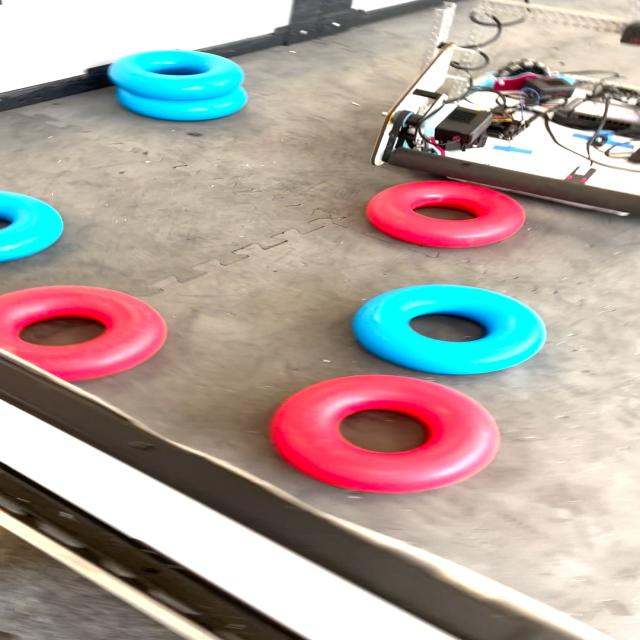Blue-Ring: (353, 285, 547, 374), (109, 50, 244, 100), (116, 86, 249, 121), (0, 190, 62, 262), (182, 108, 187, 110)
Red-Ring: (271, 375, 500, 492), (0, 285, 167, 381), (367, 181, 524, 248)
